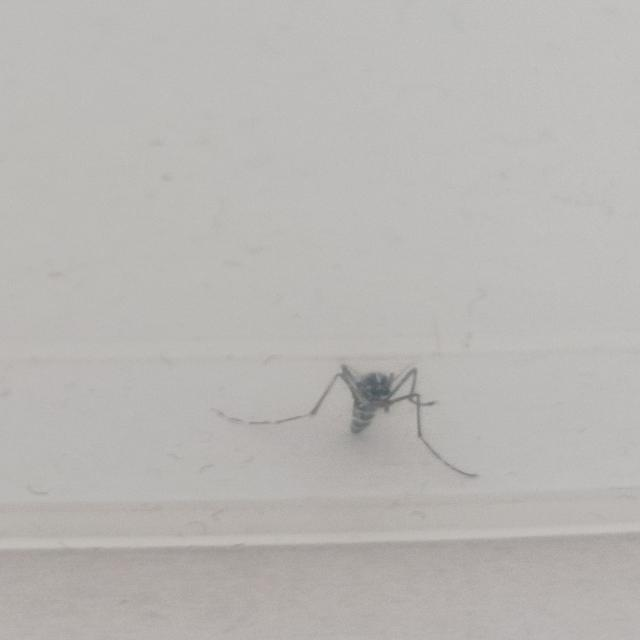albopictus: (225, 352, 488, 472)
